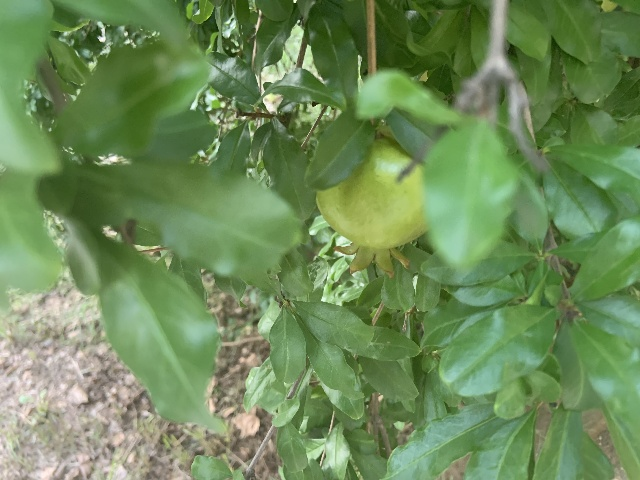mid-growth: (315, 137, 429, 278)
